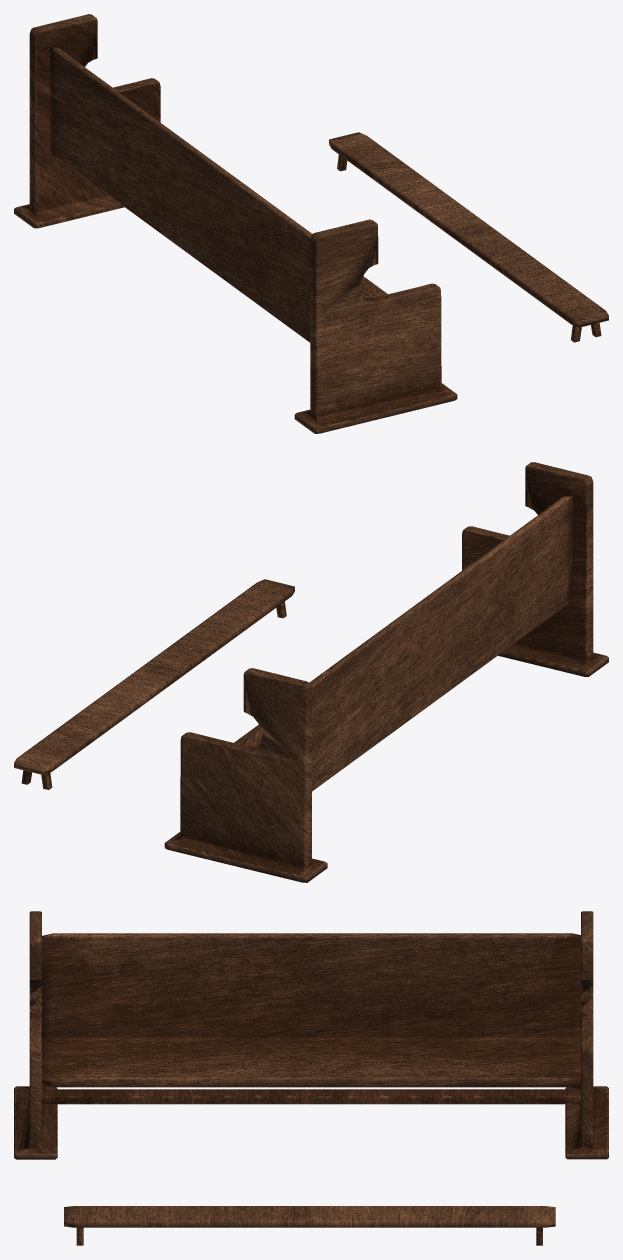
Rendered from Bank.FBX.
3 views of the same model, one above another, from view 1: azimuth 30°, elevation 25°; view 2: azimuth 150°, elevation 25°; view 3: azimuth 270°, elevation 25° (orthographic). The views are drawn at different scales.
Visible parts, largest first — view 1: Banco_1; view 2: Banco_1; view 3: Banco_1.
Part boxes in pixels (<box>): Banco_1: <box>14,14,608,433</box>; Banco_1: <box>14,462,608,882</box>; Banco_1: <box>14,911,608,1245</box>.
Size of the model in its own units: 16.81 by 9.54 by 27.44.
